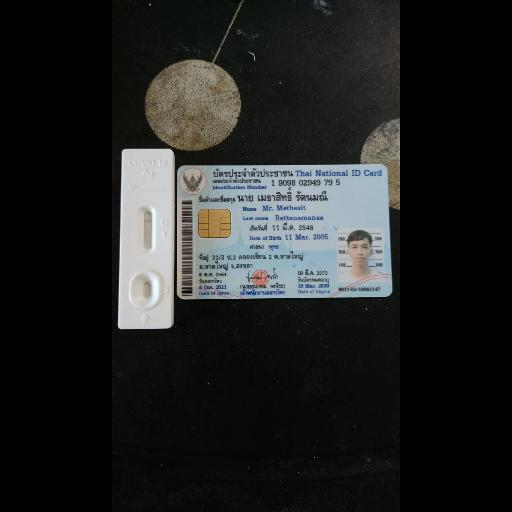Neg: (119, 148, 173, 328)
